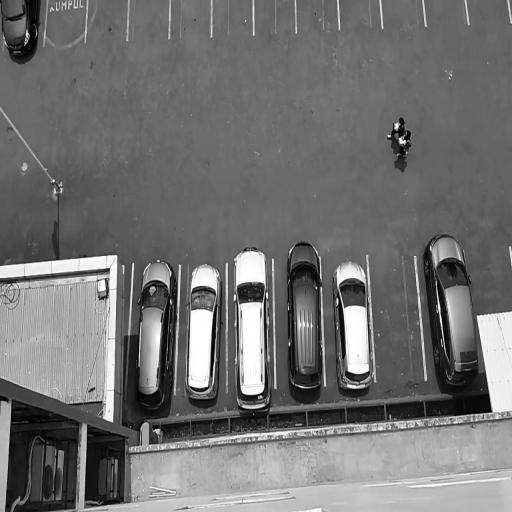Car: (421, 233, 484, 395), (230, 236, 274, 418), (130, 256, 180, 412), (284, 236, 323, 394), (182, 257, 223, 404), (331, 257, 374, 393)
Space Available: (369, 255, 425, 381), (465, 249, 512, 315), (45, 0, 88, 45), (85, 0, 129, 42), (127, 0, 169, 41), (170, 0, 211, 37), (254, 0, 296, 36), (211, 0, 254, 35), (296, 0, 338, 33), (380, 0, 426, 27), (339, 0, 383, 27), (424, 0, 468, 23), (467, 0, 511, 22)
